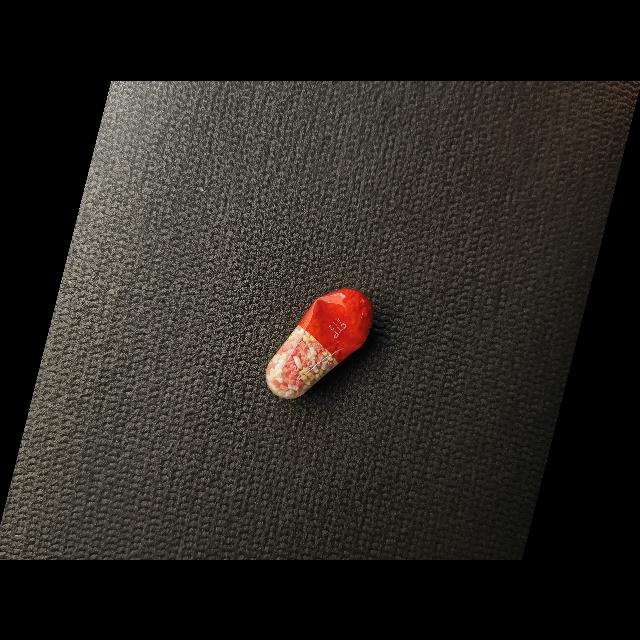Defective Capsule: (266, 288, 374, 398)
